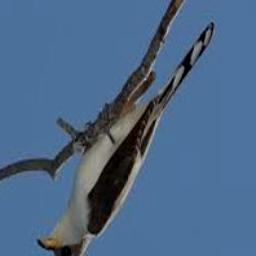Cuckoo: (37, 20, 215, 256)
